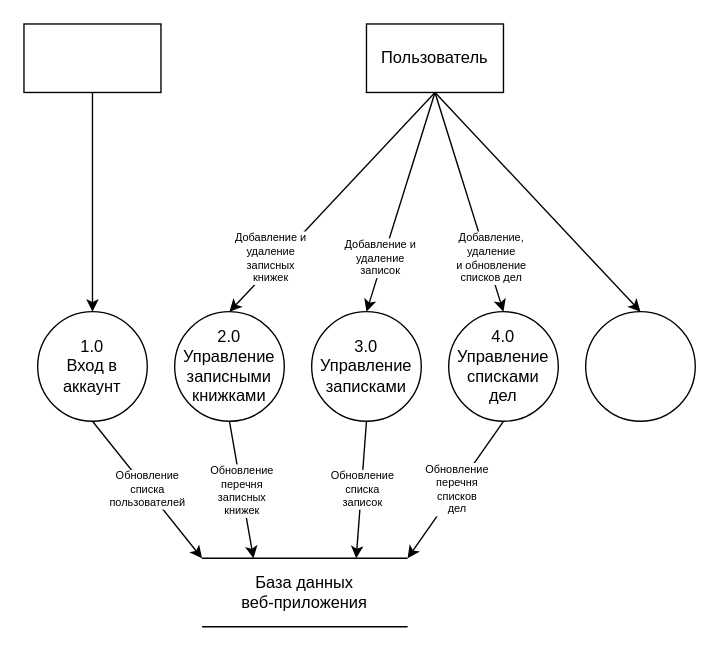
Image size: 719x652. Some labels were removed from this diagram. Here are the shapes that lost their labels. From the top down, the box of each, then its label:
(23, 23, 161, 92): Гость
(584, 310, 695, 421): 5.0 Выход из аккаунта
